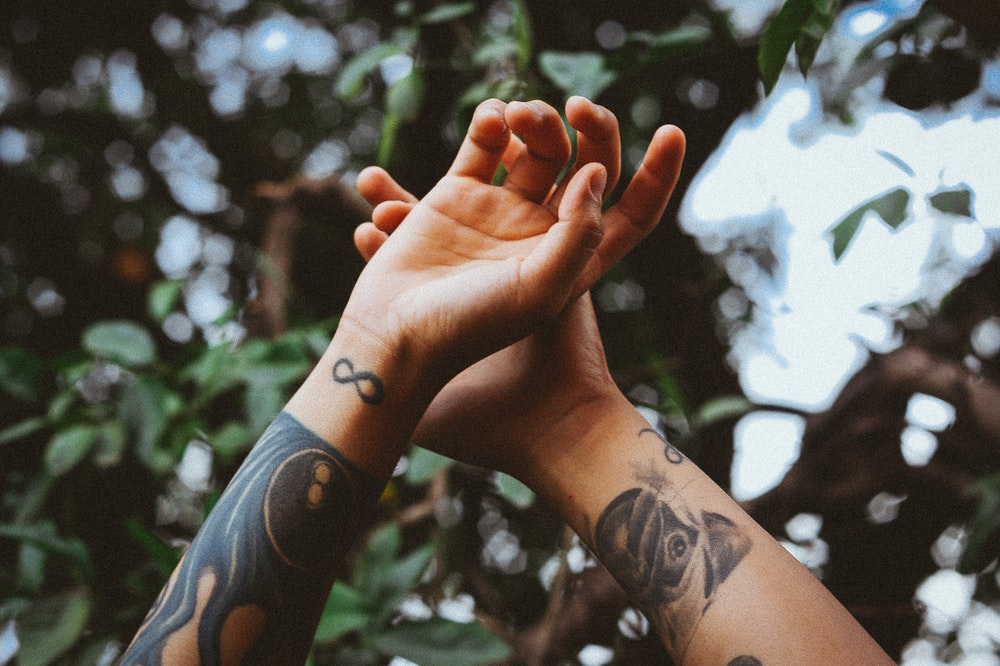palm: (387, 181, 536, 320)
